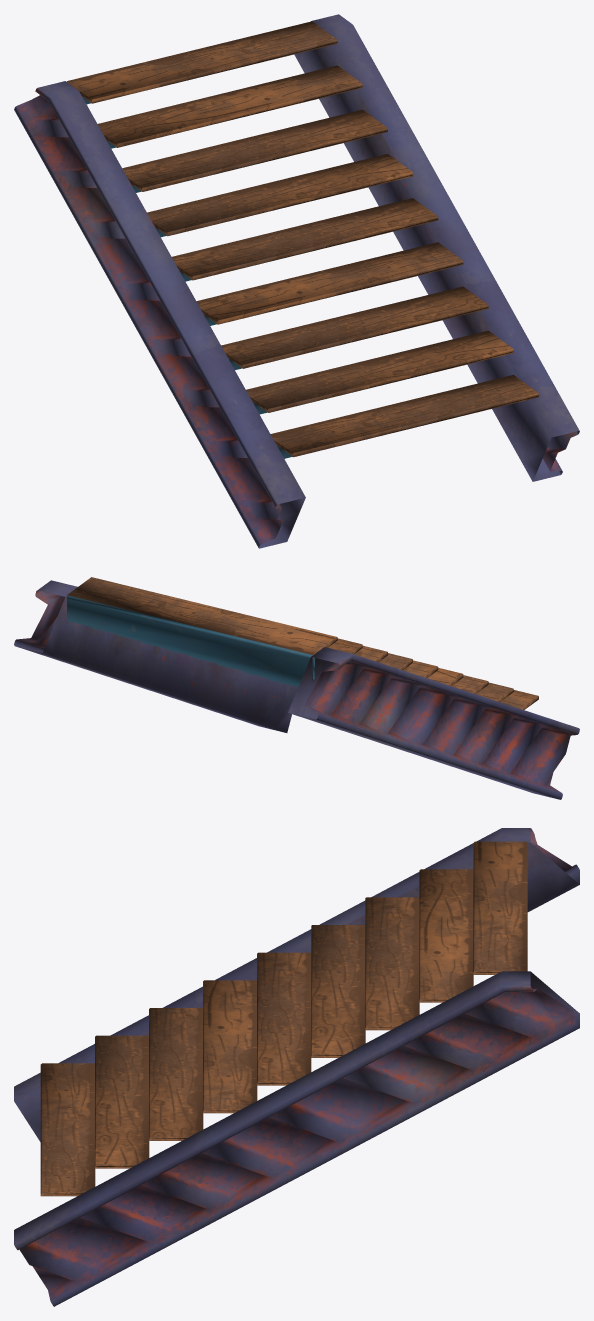
File: Loco_Station_Stairs.fbx
The picture shows the model from 3 angles, top to bottom: view 1: azimuth 30°, elevation 25°; view 2: azimuth 150°, elevation 25°; view 3: azimuth 270°, elevation 25°; orthographic projection. The views are drawn at different scales.
Visible parts, largest first — view 1: Loco_Station_Stairs.001, Loco_Balka_C_low.004; view 2: Loco_Balka_C_low.004, Loco_Station_Stairs.001; view 3: Loco_Station_Stairs.001, Loco_Balka_C_low.004.
Boxes of the visible parts, bbox=[...] form: Loco_Station_Stairs.001: bbox=[67, 21, 538, 458]; Loco_Balka_C_low.004: bbox=[14, 14, 579, 548]; Loco_Balka_C_low.004: bbox=[14, 580, 579, 799]; Loco_Station_Stairs.001: bbox=[67, 577, 538, 709]; Loco_Station_Stairs.001: bbox=[40, 841, 527, 1196]; Loco_Balka_C_low.004: bbox=[14, 828, 579, 1306].
Size of the model in its own units: 247 by 233 by 372.
